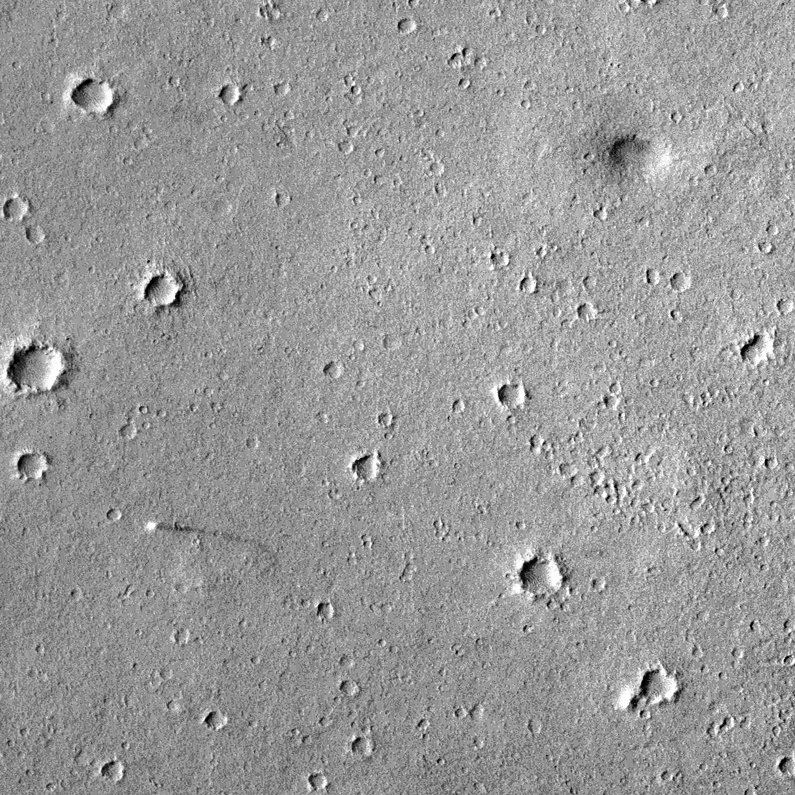dust_devil: (144, 521, 204, 535)
